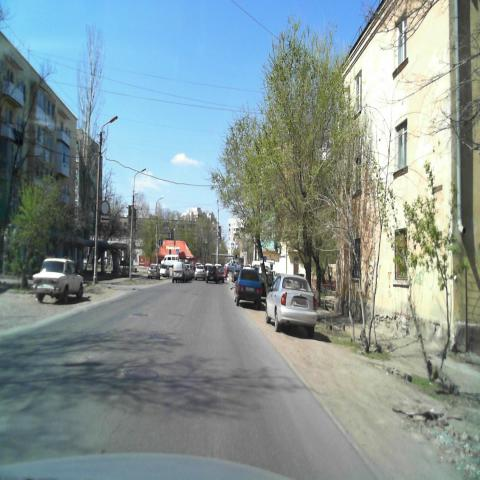3_2: (100, 200, 110, 215)
